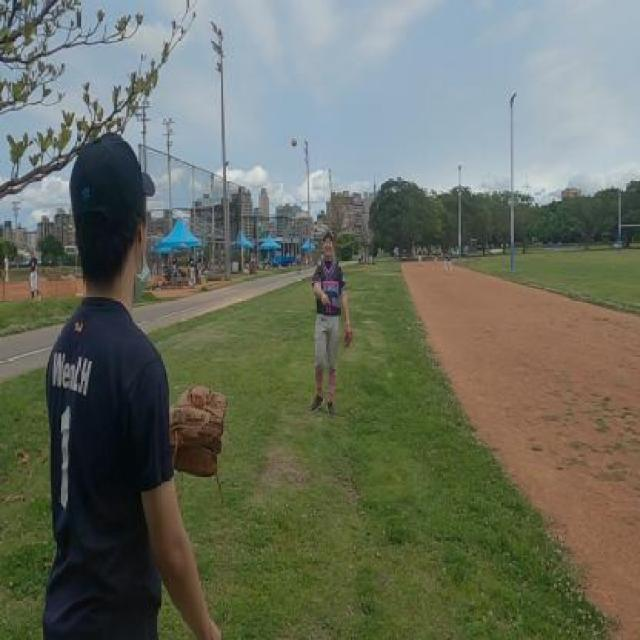baseball: (292, 136, 298, 149)
